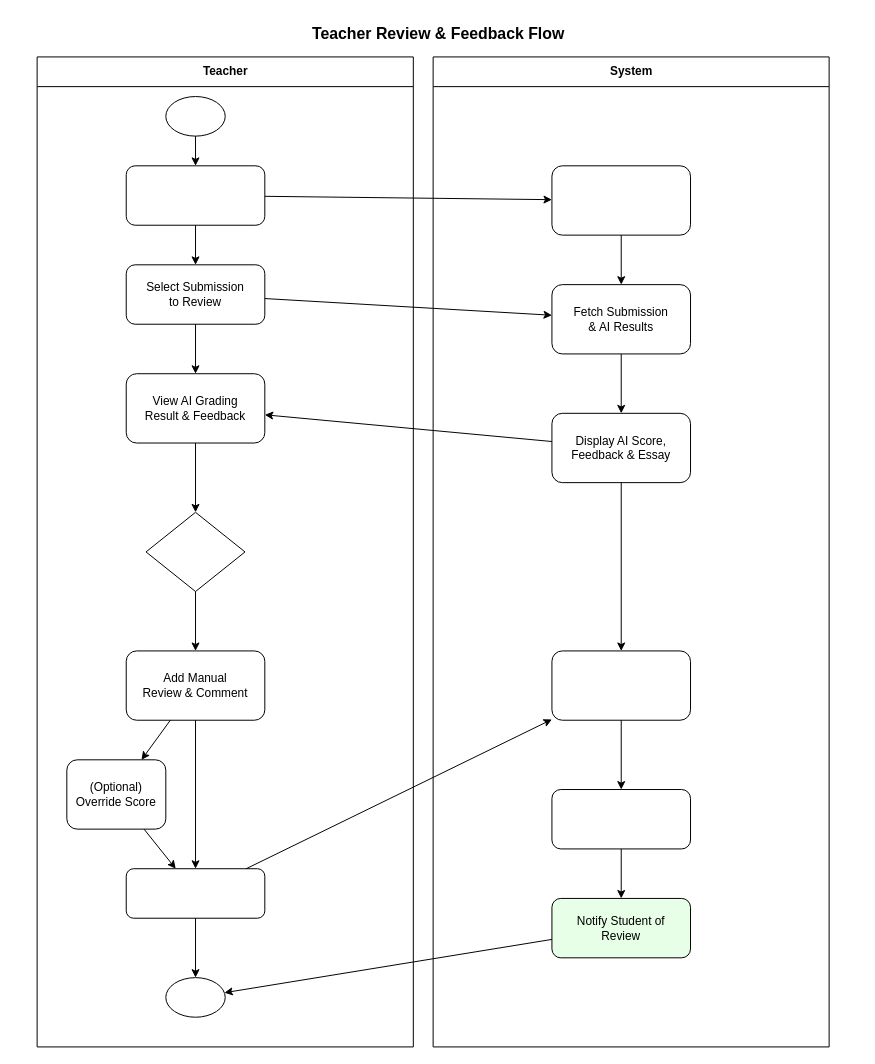
The diagram is 875 pixels wide and 1064 high, and some of its shapes have lost their labels. Here are the shapes that lost their labels. From the top down, the centre of each, then its label:
the point at 195,195: Access Student Submissions
the point at 621,200: Display List of Submissions
the point at 195,551: Agree with AI Score?
the point at 621,685: Receive Teacher Review & Comment
the point at 621,819: Store Review in Database
the point at 195,893: Submit Review
